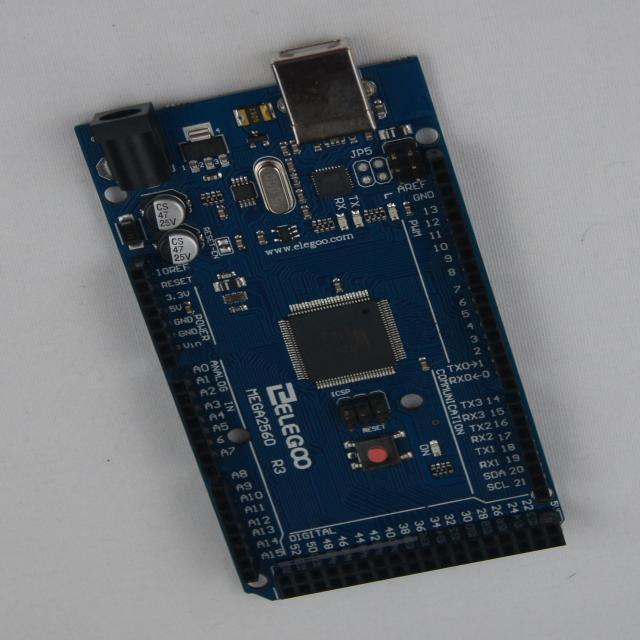Arduino Mega 2560 -Blue-: (76, 41, 565, 601)
